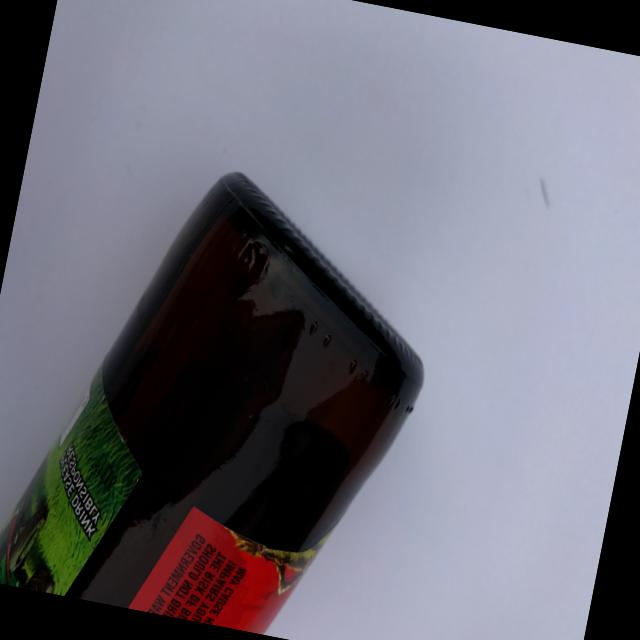Glass: (0, 130, 462, 640)
